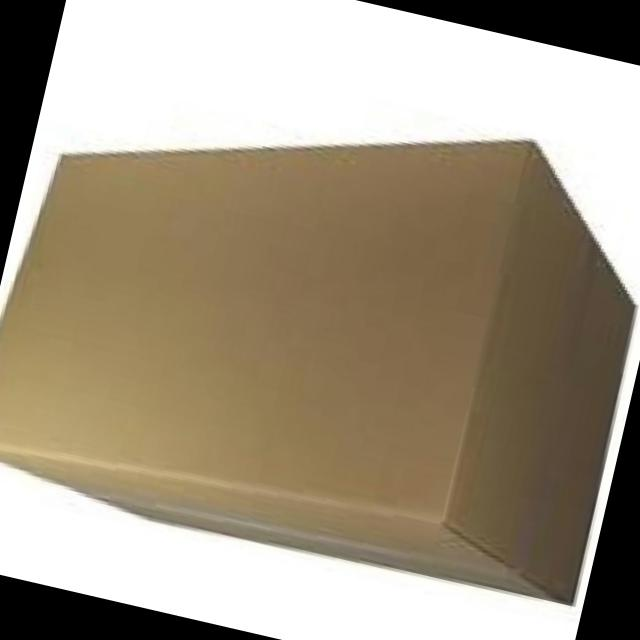cardboard paper: (0, 145, 635, 605)
